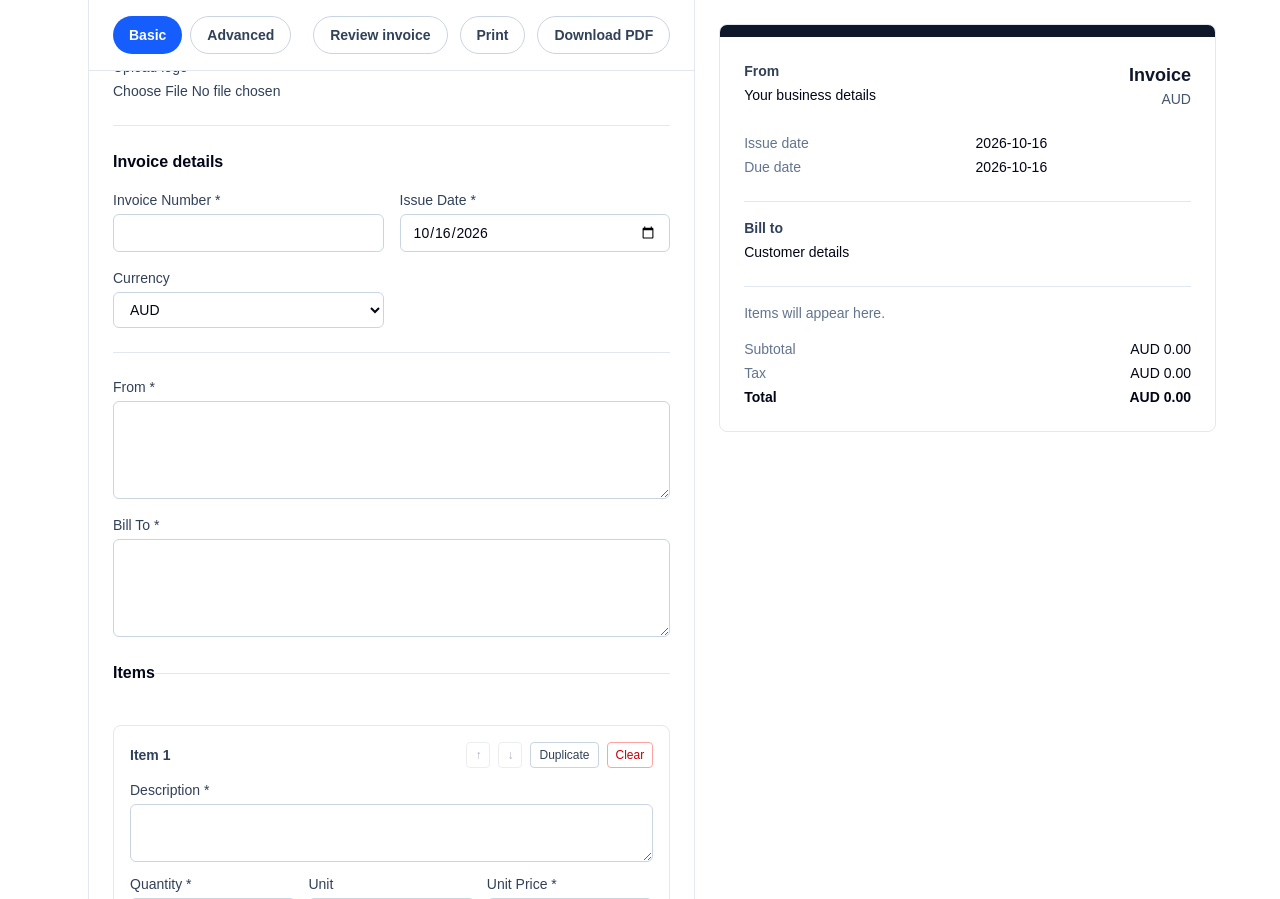
Scenario: CreateInvoiceEditor › reflects the From and Bill To text in the live preview as it's typed
(page scrolled)
Type "Acme Pty Ltd" into the text box labelled "From" at (392, 450), box [113,401,670,499]
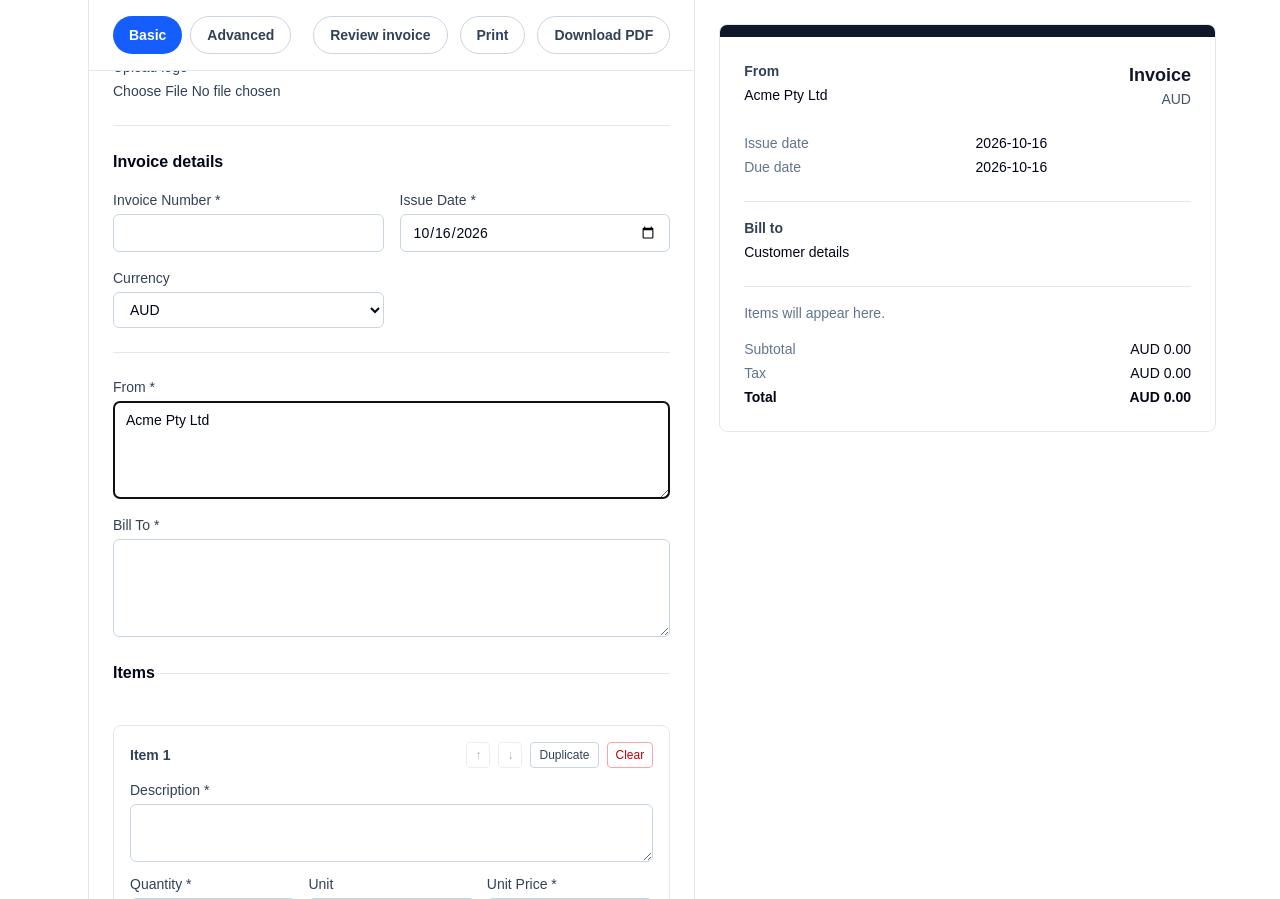
Type "Jane's Cafe" into the text box labelled "Bill To" at (392, 588), box [113,539,670,637]
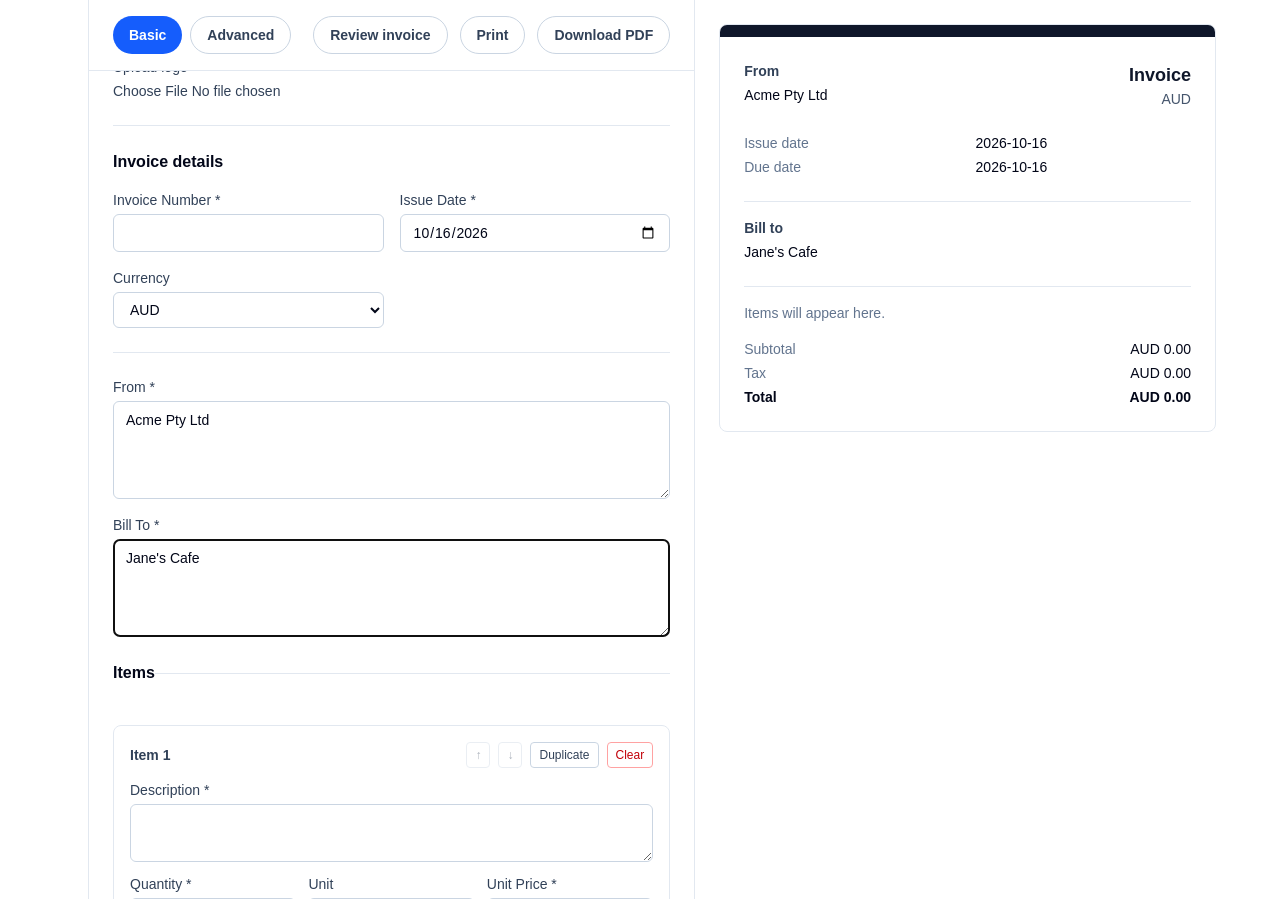
expect the text "Acme Pty Ltd" is shown: met, box [744,85,828,105]
expect the text "Jane's Cafe" is shown: met, box [744,244,818,260]
